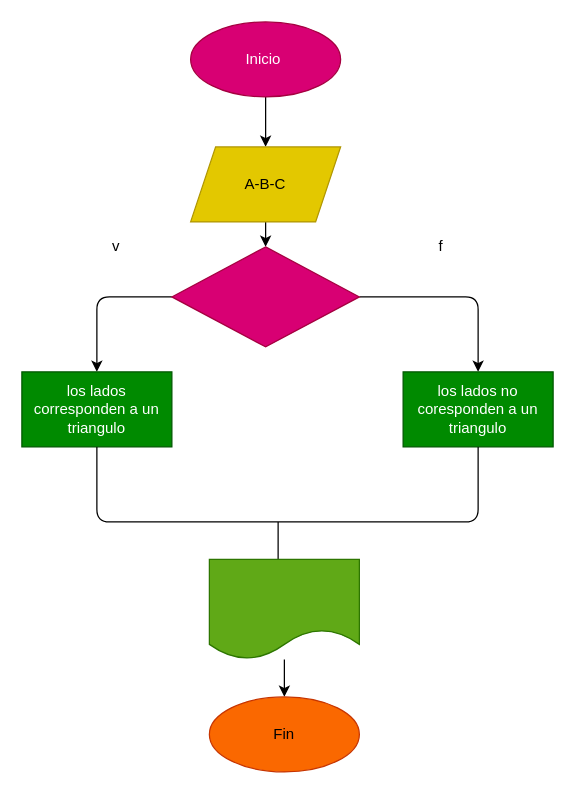
This 575x794 diagram has some shape labels left out. Here are the shapes that lost their labels. From the top down, the centre of each, then its label:
At (x=265, y=296): "A + B > C A + C > B B + C > A".
At (x=283, y=608): "Triangulo".
